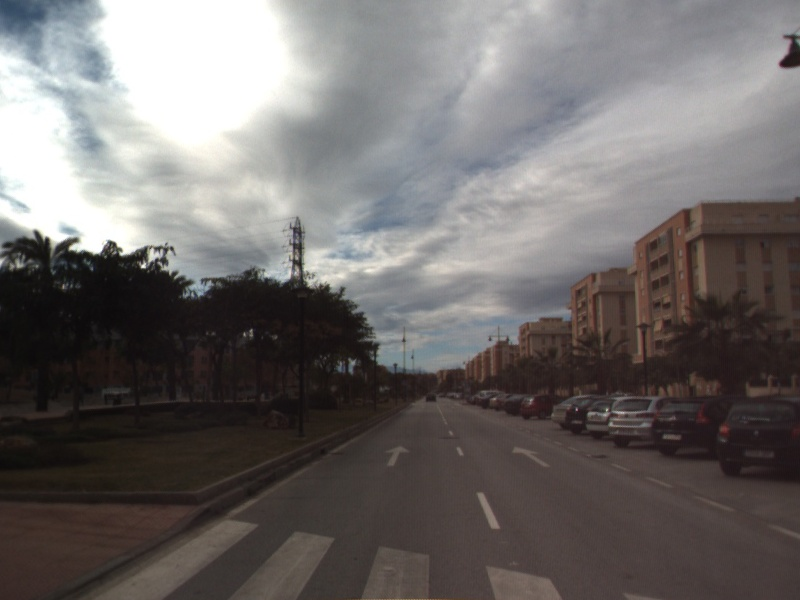STRAIGHT: (510, 444, 553, 469), (383, 444, 412, 467)
